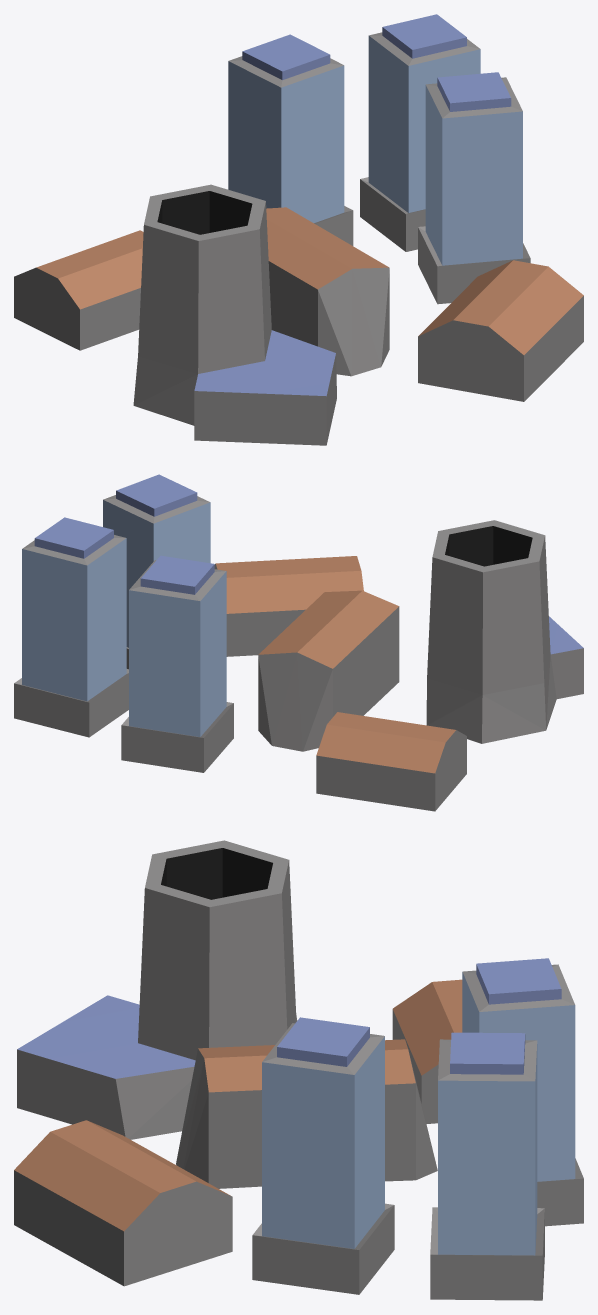
File: beta01_07.dae
3 renders of one model, top to bottom at view 1: azimuth 30°, elevation 25°; view 2: azimuth 150°, elevation 25°; view 3: azimuth 270°, elevation 25°, orthographic. The views are drawn at different scales.
Parts seen in each view (by area): view 1: Cube; view 2: Cube; view 3: Cube.
Part boxes in pixels (<box>): Cube: <box>14,14,583,445</box>; Cube: <box>14,474,583,811</box>; Cube: <box>14,840,583,1300</box>.
Bounding box in the file's own units: 1.88 × 1.77 × 0.8068.
